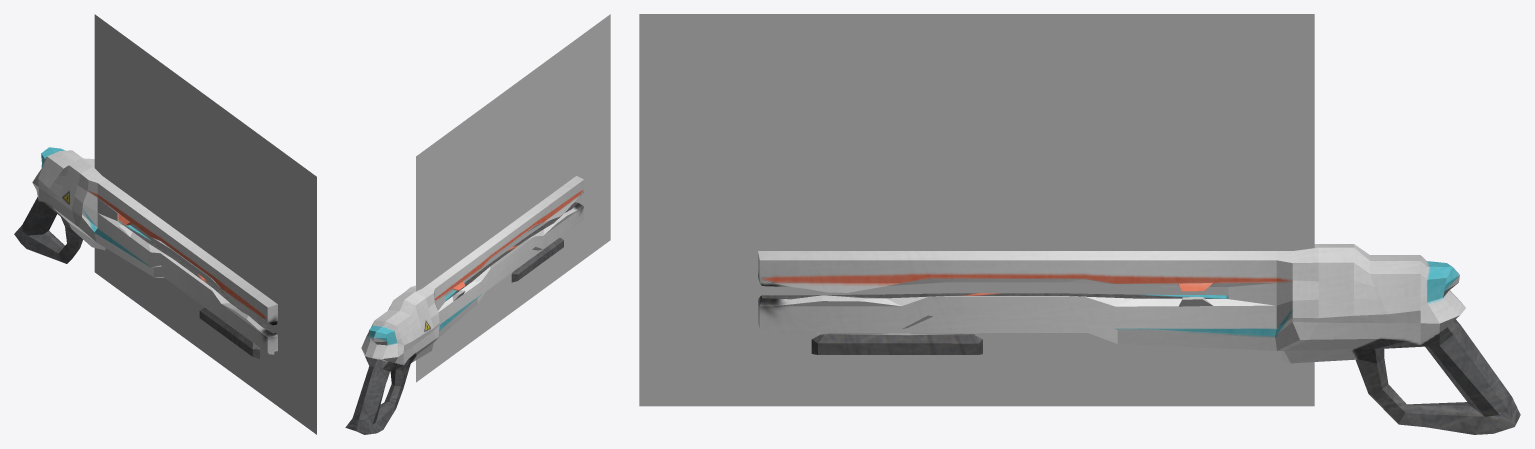
Rendered from Shottie.fbx.
3 views of the same model, side by side, from view 1: azimuth 30°, elevation 25°; view 2: azimuth 150°, elevation 25°; view 3: azimuth 270°, elevation 25° (orthographic). The views are drawn at different scales.
Visible parts, largest first — view 1: pPlane1, pCube1; view 2: pPlane1, pCube1; view 3: pPlane1, pCube1.
Part boxes in pixels (x1,y1,x2,y2): pPlane1: (94, 14, 316, 434); pCube1: (14, 147, 277, 358); pPlane1: (416, 14, 610, 382); pCube1: (345, 176, 583, 434); pPlane1: (639, 14, 1314, 406); pCube1: (758, 244, 1520, 434).
Bounding box in the file's own units: 0.209 × 1.28 × 2.44.
